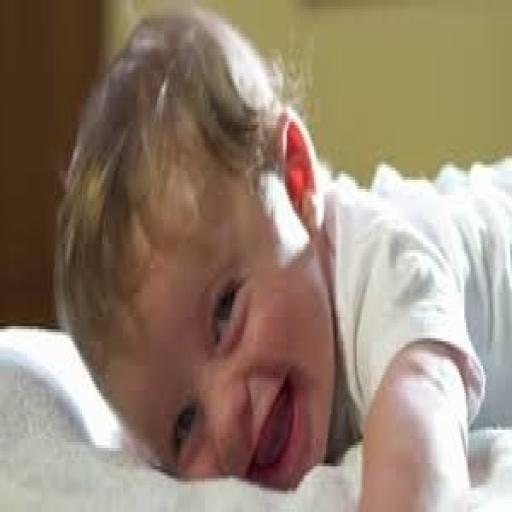laughing: (44, 6, 504, 503)
